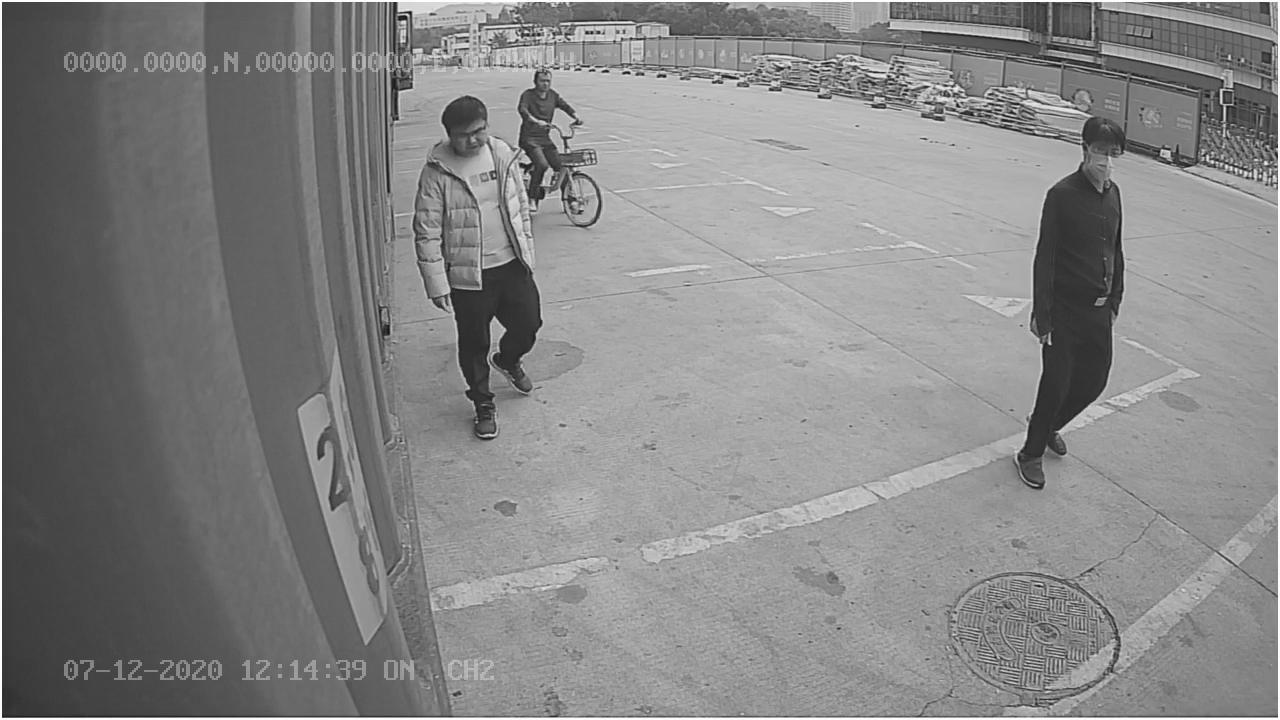person: (1007, 106, 1134, 493)
